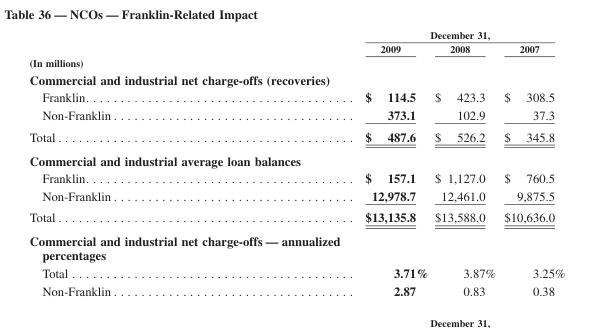table: (28, 28, 564, 297)
table column: (28, 28, 240, 297), (240, 28, 430, 297), (430, 28, 499, 297), (499, 28, 564, 297)
table column header: (28, 28, 564, 55)
table projected row header: (28, 228, 564, 263), (28, 148, 564, 168), (28, 70, 564, 88), (28, 55, 564, 70)
table row: (28, 228, 564, 263), (28, 125, 564, 148), (28, 206, 564, 228), (28, 105, 564, 125), (28, 148, 564, 168), (28, 186, 564, 206), (28, 70, 564, 88), (28, 168, 564, 186), (28, 263, 564, 281), (28, 88, 564, 105), (28, 281, 564, 297), (28, 55, 564, 70), (28, 41, 564, 55), (28, 28, 564, 41)
table spanning cell: (240, 28, 564, 41)
